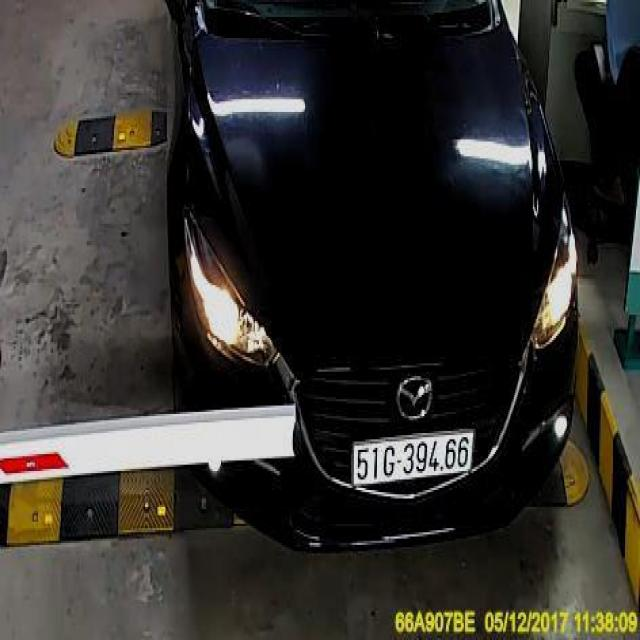License-Plates: (347, 420, 477, 494)
